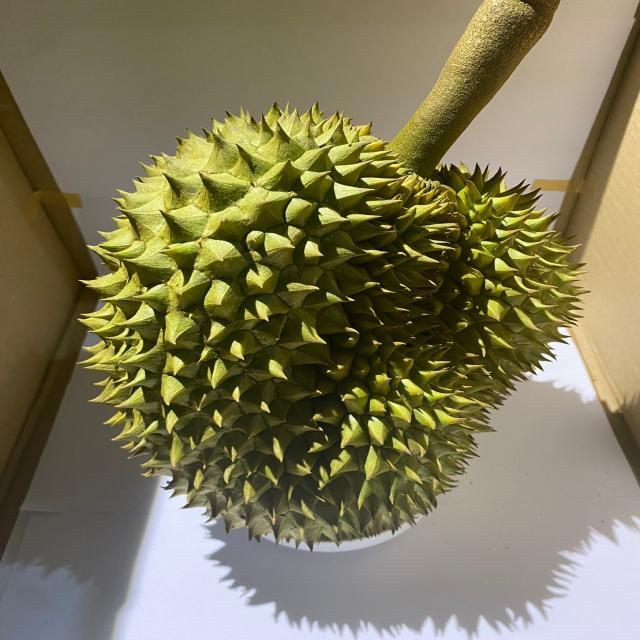immature: (79, 103, 595, 545)
